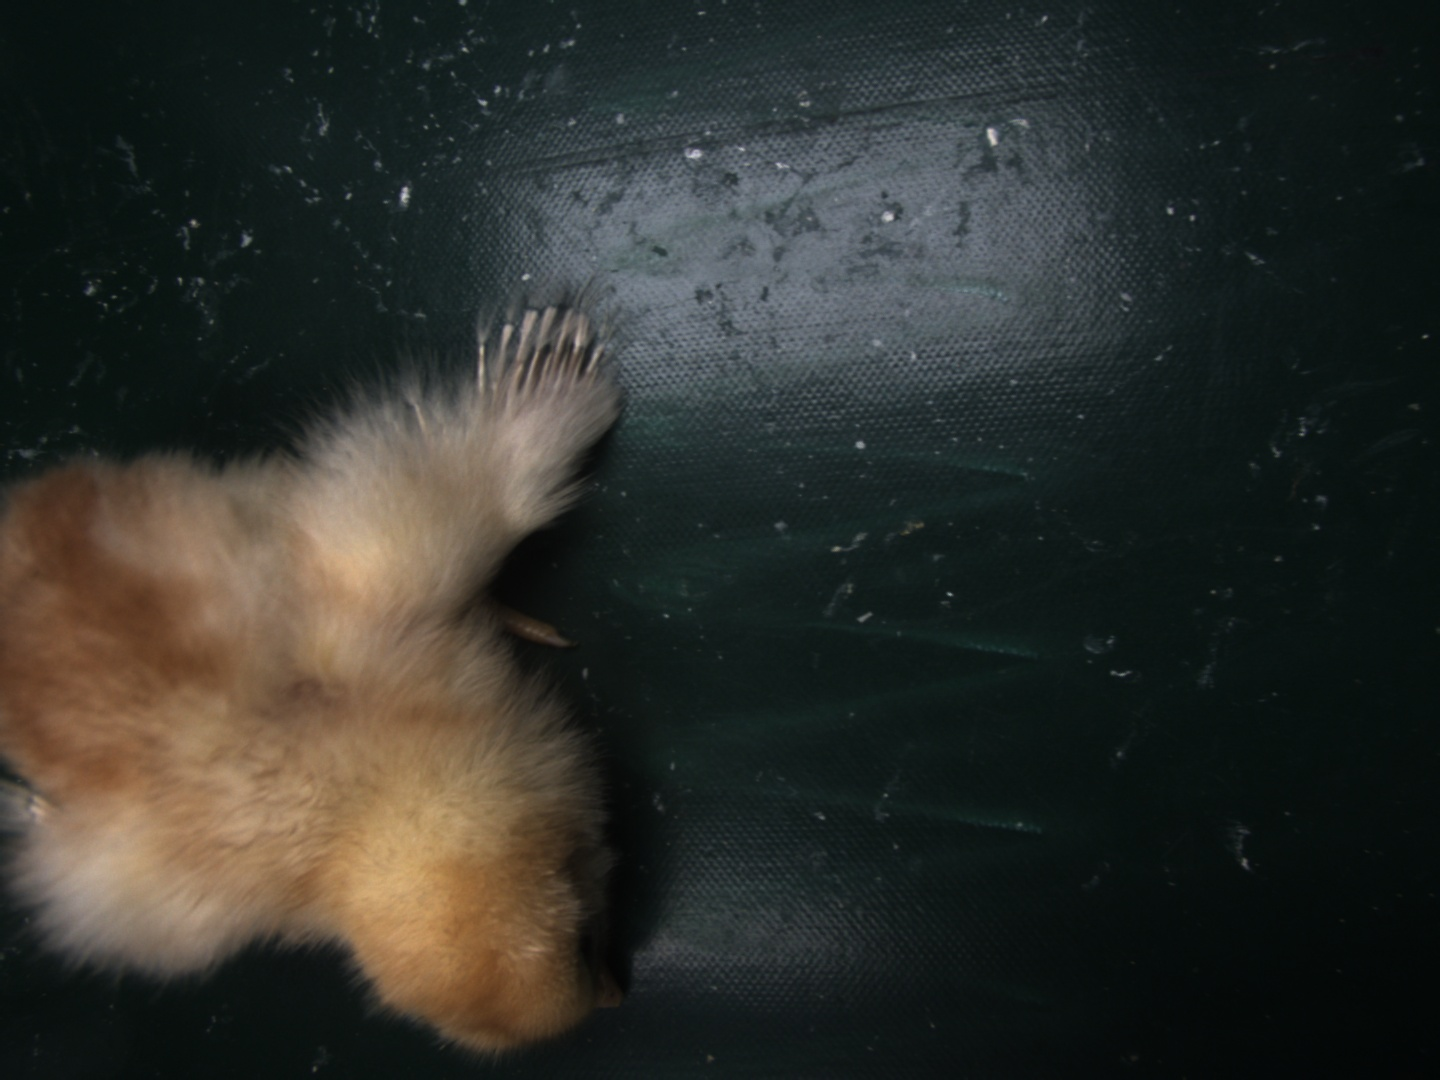female: (474, 299, 609, 404)
